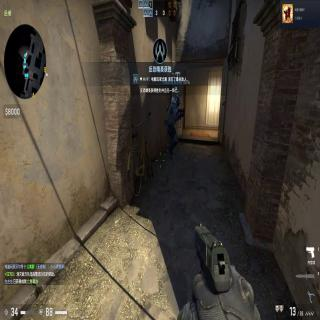CT-Body: (164, 92, 185, 160)
CT-Head: (174, 92, 180, 106)
